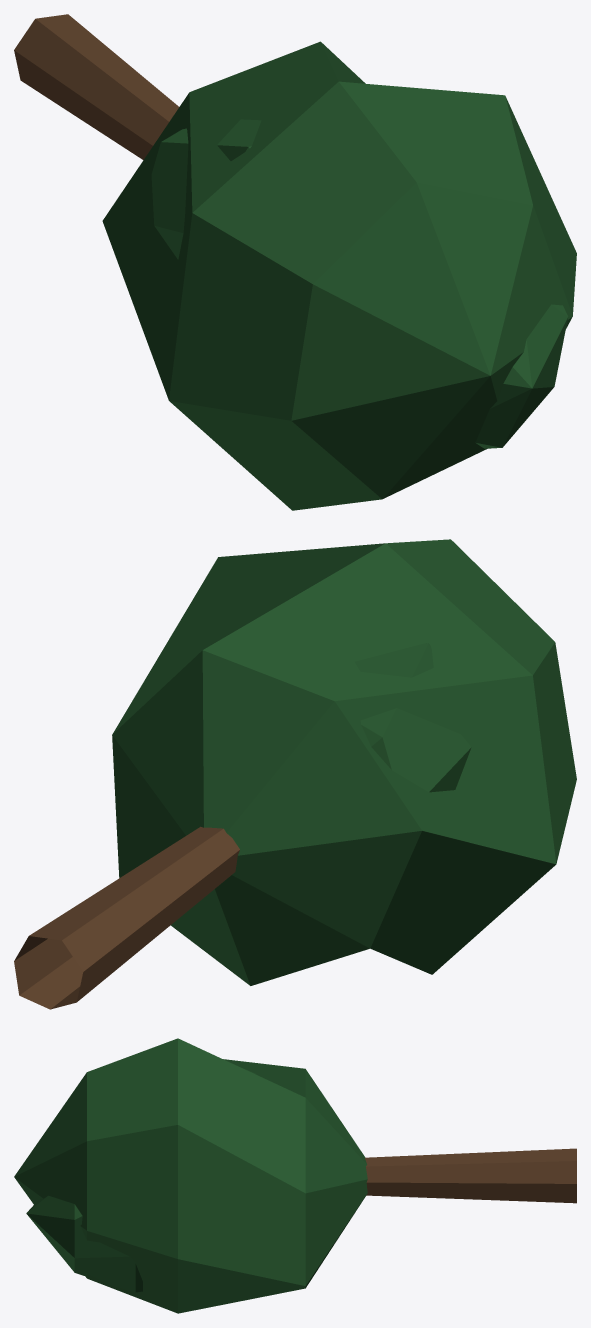
The model's file is growth_0.glb.
3 views of the same model, one above another, from view 1: azimuth 30°, elevation 25°; view 2: azimuth 150°, elevation 25°; view 3: azimuth 270°, elevation 25° (orthographic). The views are drawn at different scales.
Parts seen in each view (by area): view 1: tree_07_growth_0; view 2: tree_07_growth_0; view 3: tree_07_growth_0.
Part boxes in pixels (box(x1,y1,x2,y2)): tree_07_growth_0: box(14, 14, 576, 510); tree_07_growth_0: box(14, 539, 576, 1009); tree_07_growth_0: box(14, 1038, 576, 1313).
Bounding box in the file's own units: 6.33 × 6.19 × 11.86.
